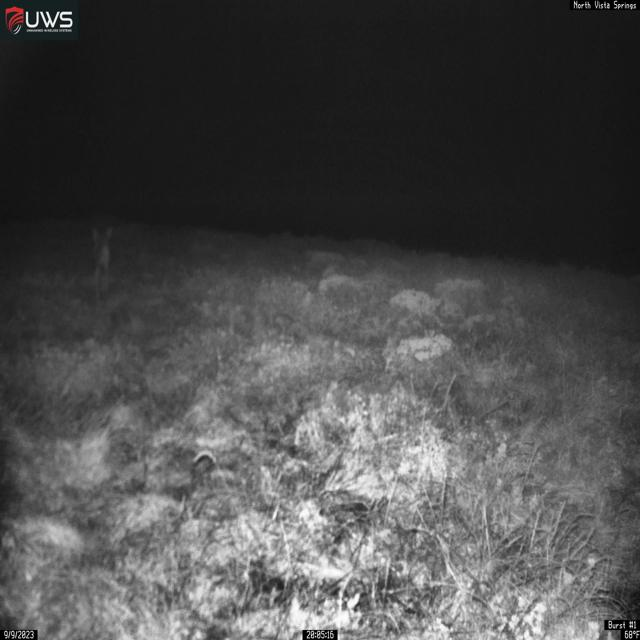coyote: (90, 225, 114, 302)
